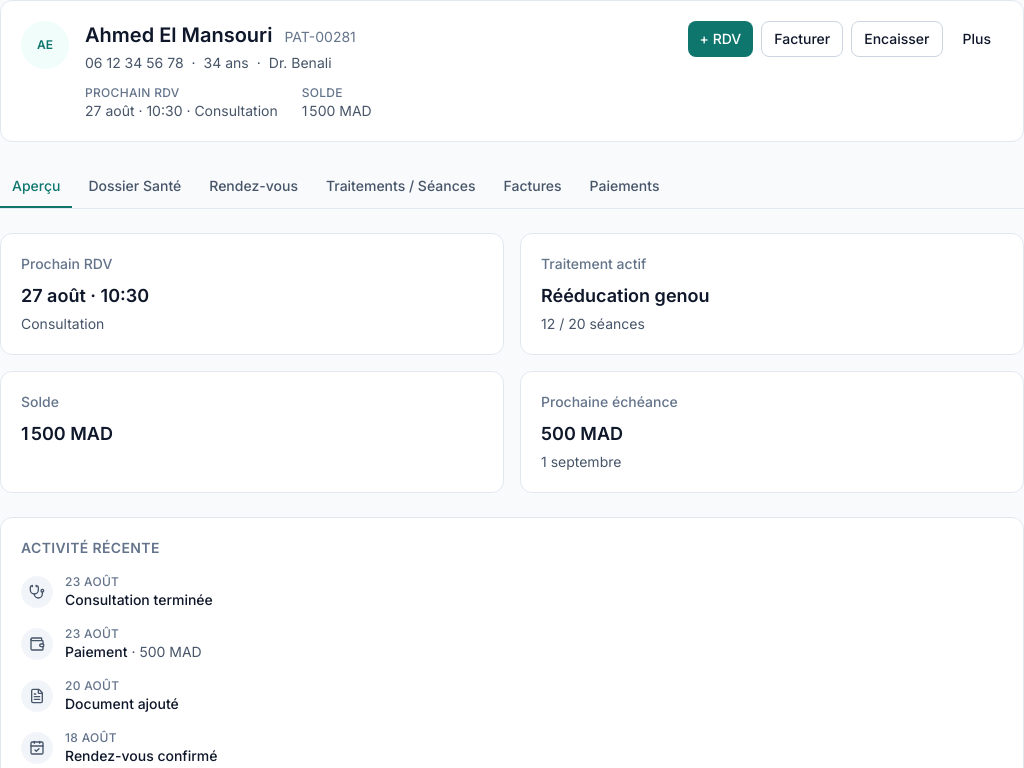
it: PatientDetailPage › exposes header actions, with a future-feature notice for Facturer/Encaisser/Plus (21)
Click the button "Facturer" at (802, 39), box [761,21,843,57]
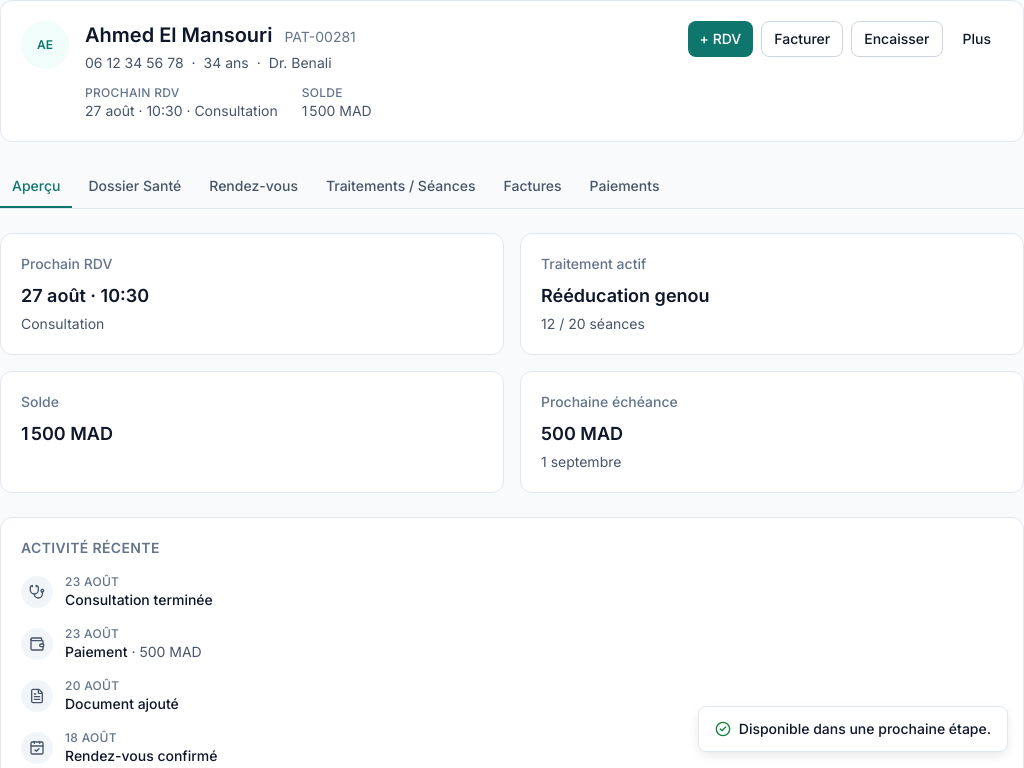
Expected: the text "Disponible dans une prochaine étape." is shown, [698,706,1008,752]
